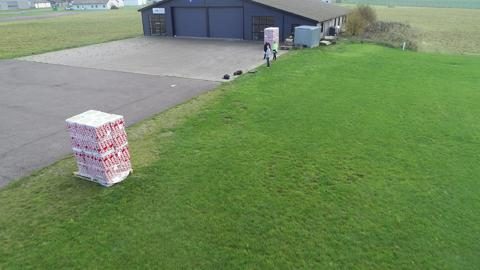RockwoolPallet: (66, 109, 134, 186)
